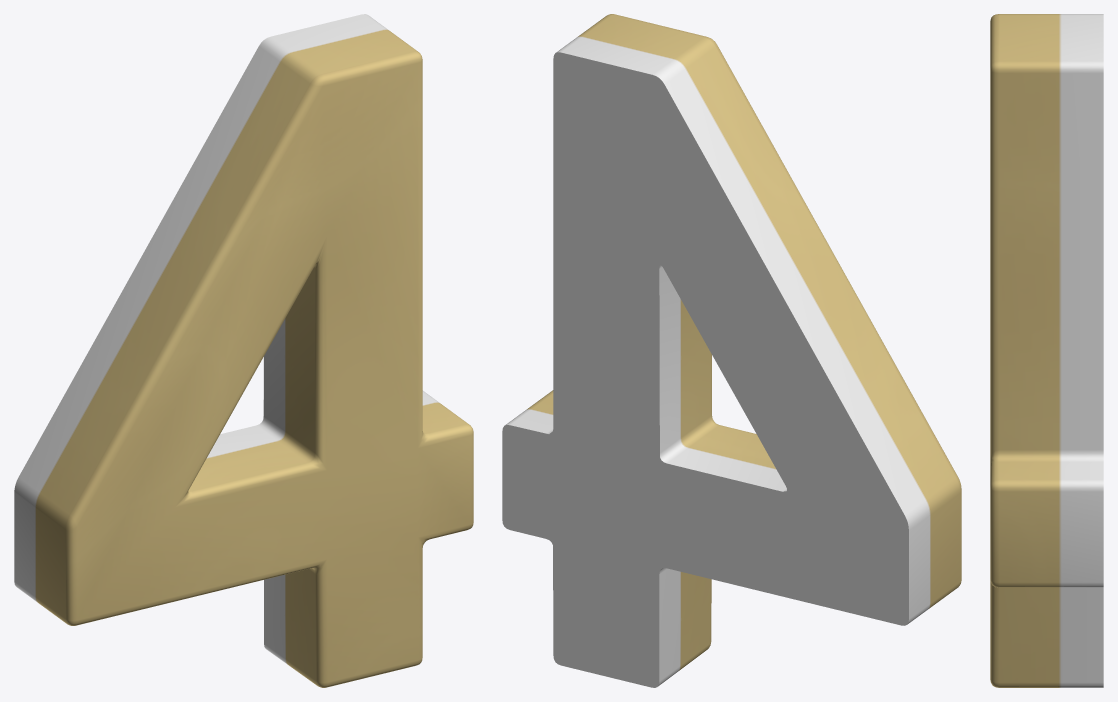
Rendered from LettersLightUp01_4.FBX.
3 views of the same model, side by side, from view 1: azimuth 30°, elevation 25°; view 2: azimuth 150°, elevation 25°; view 3: azimuth 270°, elevation 25° (orthographic). The views are drawn at different scales.
Visible parts, largest first — view 1: LettersLightUp01_4; view 2: LettersLightUp01_4; view 3: LettersLightUp01_4.
Boxes of the visible parts, x1,y1,x2,y2 form: LettersLightUp01_4: [14, 14, 473, 687]; LettersLightUp01_4: [502, 14, 961, 687]; LettersLightUp01_4: [990, 14, 1103, 687].
Size of what is drawn, in the model's own units: 0.4271 by 0.6153 by 0.1012.
